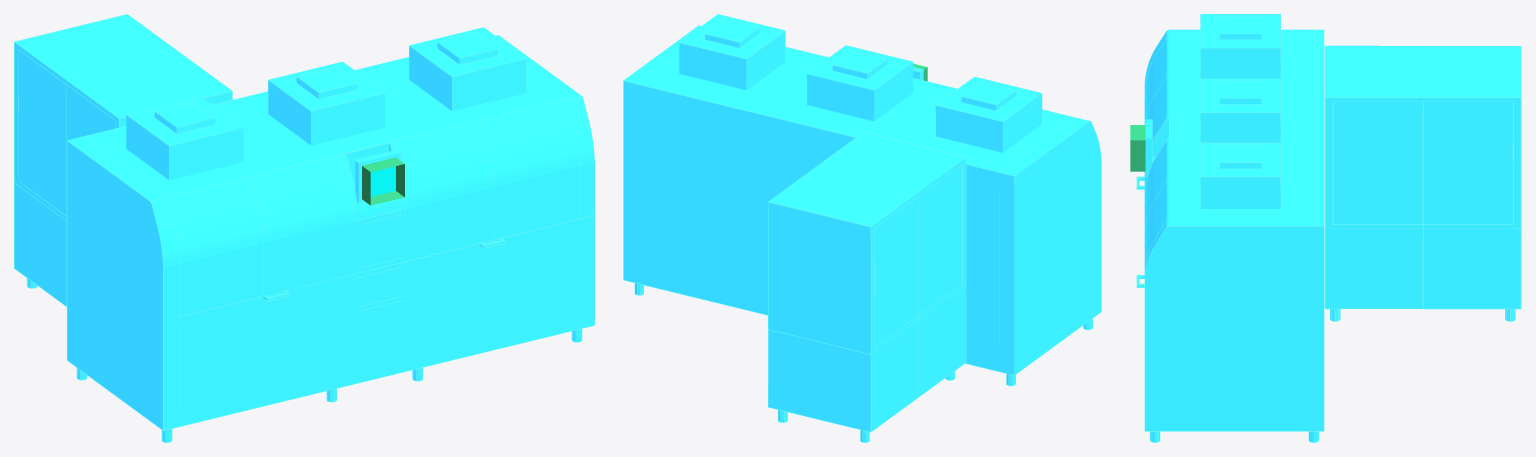
File: COG.fbx
3 views of the same model, side by side, from view 1: azimuth 30°, elevation 25°; view 2: azimuth 150°, elevation 25°; view 3: azimuth 270°, elevation 25° (orthographic). The views are drawn at different scales.
Visible parts, largest first — view 1: 5, 后1, 框本体1_2; view 2: 5, 后1; view 3: 5, 后1, 框本体1_2.
Boxes of the visible parts, x1,y1,x2,y2 form: 5: [67, 27, 594, 442]; 后1: [14, 14, 232, 306]; 框本体1_2: [362, 157, 404, 205]; 5: [623, 14, 1101, 386]; 后1: [768, 132, 966, 442]; 5: [1136, 14, 1324, 442]; 后1: [1324, 45, 1521, 321]; 框本体1_2: [1130, 125, 1145, 171].
Bounding box in the file's own units: 299 × 184 × 252.
4 materials, 1 textured.
